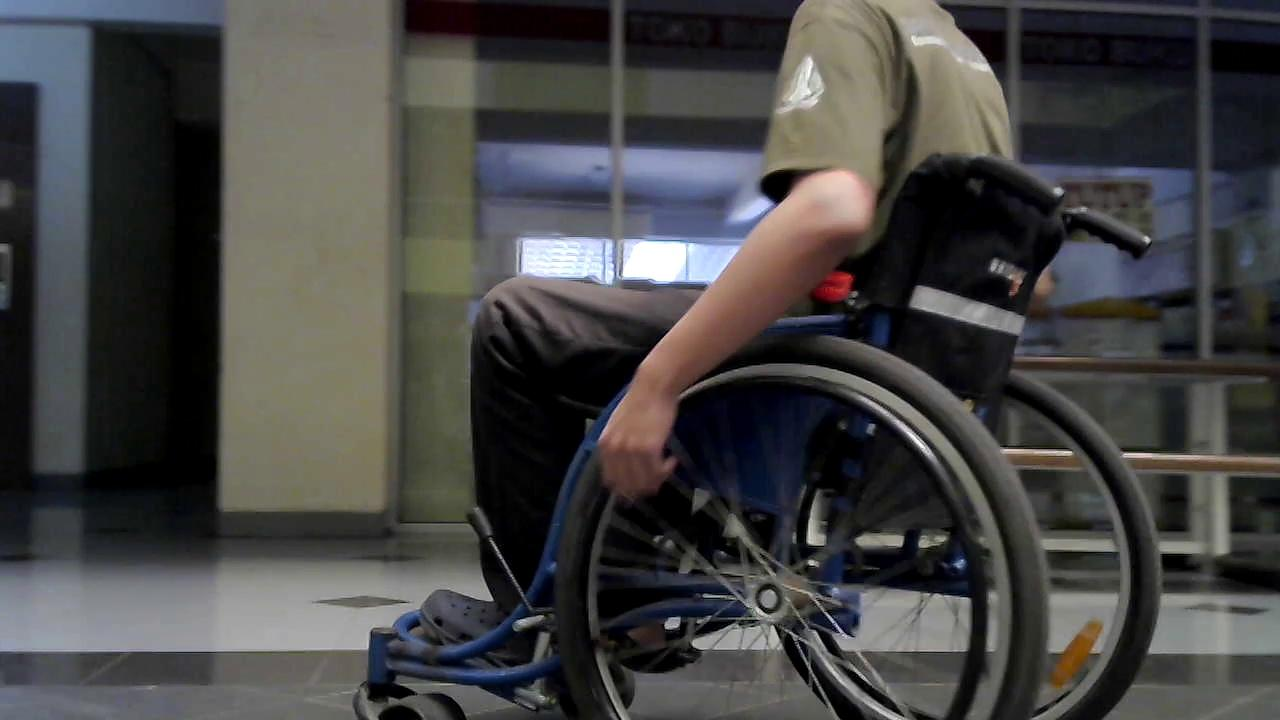wheelchair: (337, 133, 1206, 720)
